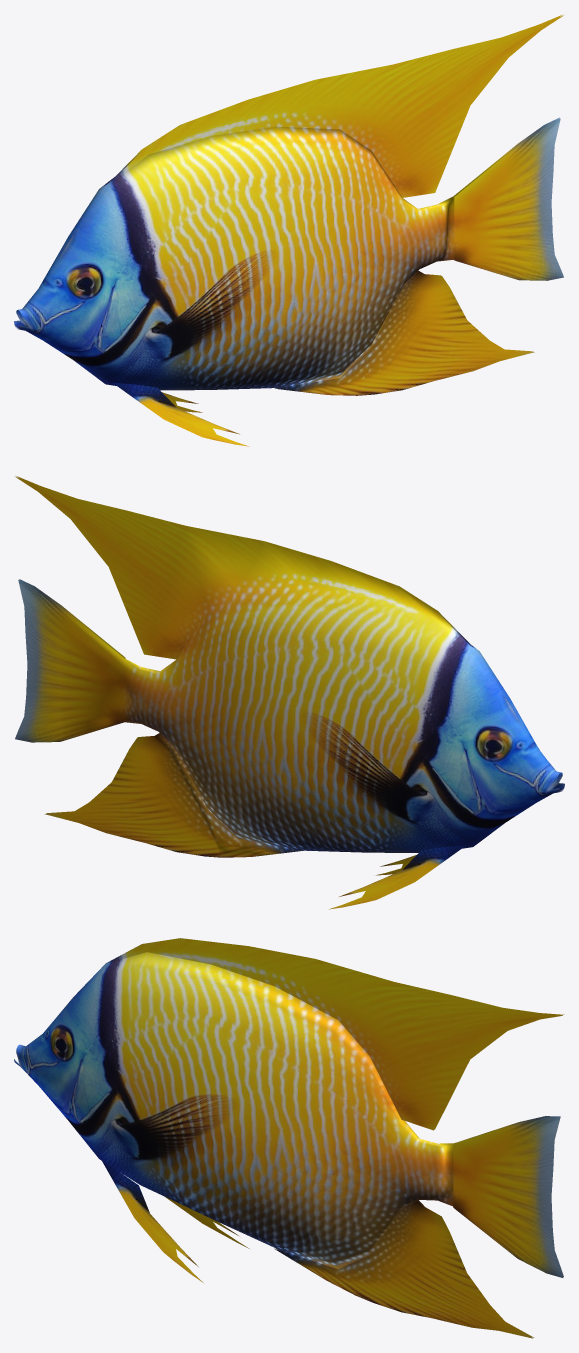
File: BlueYellowFish.fbx
3 views of the same model, one above another, from view 1: azimuth 30°, elevation 25°; view 2: azimuth 150°, elevation 25°; view 3: azimuth 330°, elevation 25° (orthographic).
Visible parts, largest first — view 1: BlueYellowFish.001; view 2: BlueYellowFish.001; view 3: BlueYellowFish.001.
Boxes of the visible parts, left/top/right/bottom form: BlueYellowFish.001: left=14, top=14, right=563, bottom=446; BlueYellowFish.001: left=15, top=476, right=564, bottom=909; BlueYellowFish.001: left=14, top=938, right=564, bottom=1338.
Bounding box in the file's own units: 430 × 252 × 63.28.
